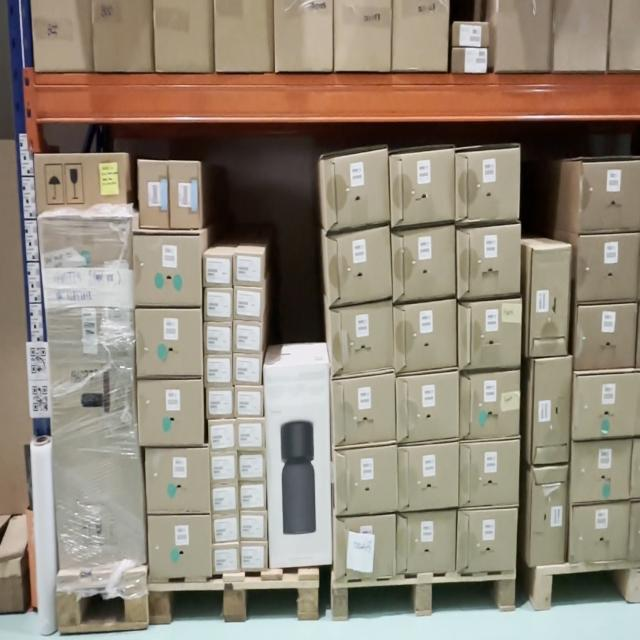box: (268, 369, 329, 564), (36, 157, 127, 209), (135, 233, 200, 304), (459, 223, 520, 297), (395, 227, 454, 301), (330, 228, 388, 302), (136, 311, 202, 375), (398, 372, 458, 442), (457, 150, 519, 217), (460, 370, 520, 439), (534, 356, 572, 464), (140, 382, 203, 446), (575, 304, 637, 367), (576, 236, 638, 299), (324, 158, 388, 219), (334, 516, 395, 580), (392, 153, 453, 217), (335, 376, 393, 443), (146, 450, 209, 511), (457, 509, 518, 571), (574, 374, 636, 435), (149, 518, 210, 579), (460, 304, 520, 364), (582, 164, 638, 228), (336, 452, 396, 510), (398, 512, 454, 574), (332, 313, 392, 370), (396, 308, 457, 364), (461, 446, 518, 504), (399, 449, 456, 506), (534, 251, 566, 352), (573, 443, 627, 498), (534, 471, 564, 562), (574, 508, 626, 556), (140, 161, 168, 228), (171, 163, 198, 227), (234, 326, 261, 356), (235, 256, 263, 284), (207, 389, 235, 417), (206, 290, 232, 320), (205, 258, 232, 286), (241, 543, 268, 570), (236, 292, 262, 320), (211, 452, 237, 480), (212, 486, 238, 514), (213, 548, 239, 576), (206, 324, 231, 353), (239, 420, 263, 449), (239, 454, 265, 480), (235, 389, 262, 414), (206, 358, 231, 384), (211, 421, 236, 447), (240, 485, 265, 510), (241, 514, 267, 538), (235, 360, 260, 384), (213, 519, 239, 542)
